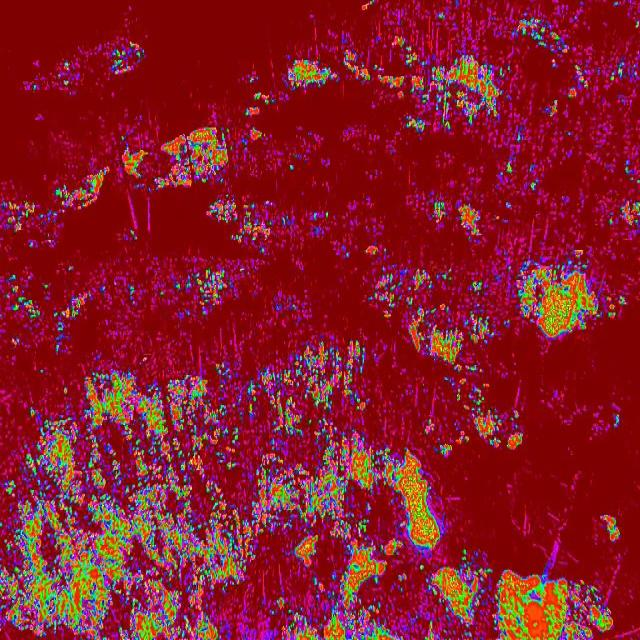fire: (0, 254, 451, 640), (342, 37, 504, 137), (452, 555, 614, 640), (452, 280, 524, 451), (508, 248, 627, 342), (0, 166, 109, 252), (115, 118, 236, 194), (208, 186, 294, 254), (269, 46, 339, 103), (422, 189, 484, 242), (514, 16, 578, 66), (111, 36, 147, 82), (612, 198, 640, 230), (598, 514, 622, 542)
